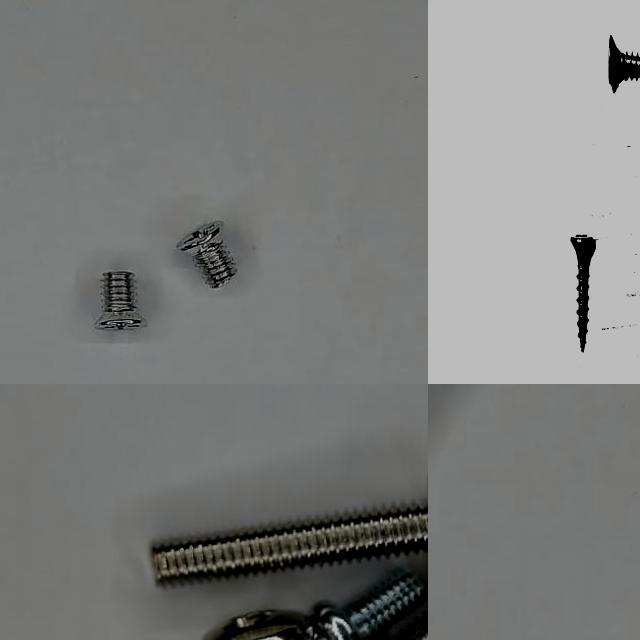Screw: (151, 505, 428, 585), (312, 570, 425, 640), (176, 220, 236, 288), (202, 611, 313, 640), (93, 270, 146, 330), (570, 233, 595, 352), (608, 33, 640, 91)
